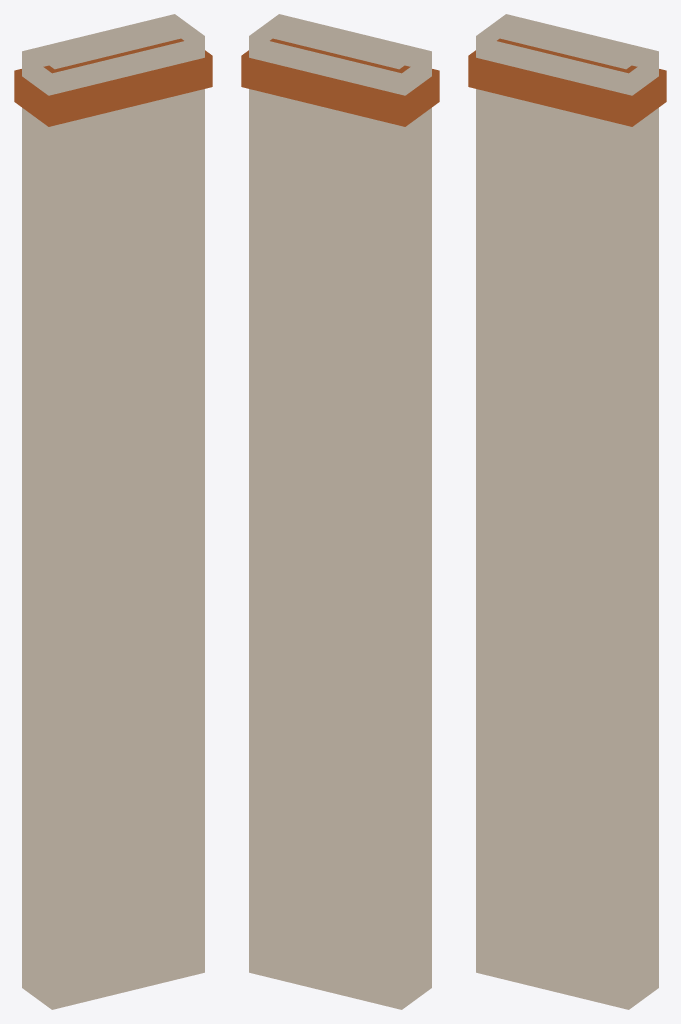
File: garage-exterior-wall.obj
The picture shows the model from 3 angles, left to right: view 1: azimuth 30°, elevation 25°; view 2: azimuth 150°, elevation 25°; view 3: azimuth 330°, elevation 25°; orthographic projection.
Visible parts, largest first — view 1: garage-exterior-wall; view 2: garage-exterior-wall; view 3: garage-exterior-wall.
Boxes of the visible parts, bbox=[...] form: garage-exterior-wall: bbox=[14, 14, 212, 1009]; garage-exterior-wall: bbox=[241, 14, 439, 1009]; garage-exterior-wall: bbox=[468, 14, 666, 1009].
Size of the model in its own units: 0.44 by 2.4 by 0.16.
